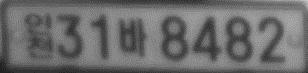1: (90, 14, 111, 60)
2: (257, 14, 287, 63)
3: (56, 13, 83, 58)
4: (192, 16, 222, 62)
8: (225, 15, 253, 62), (160, 15, 188, 61)
바: (118, 17, 146, 57)
인천_V: (24, 12, 53, 60)
